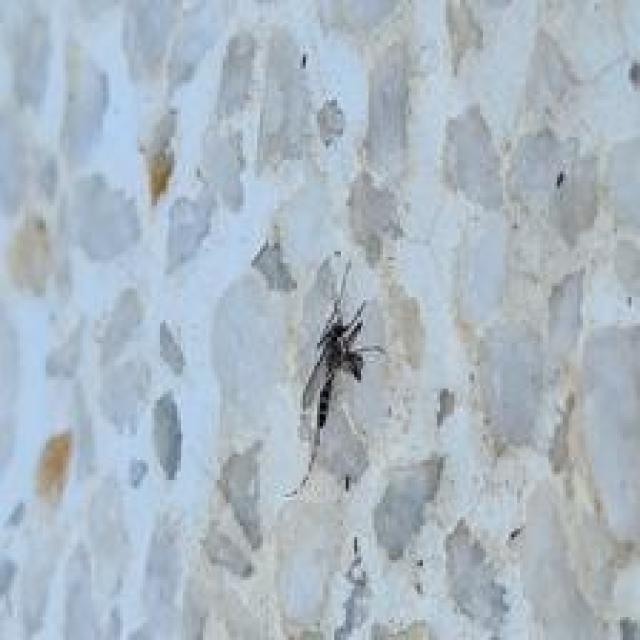Aedes albopictus: (283, 260, 386, 497)
